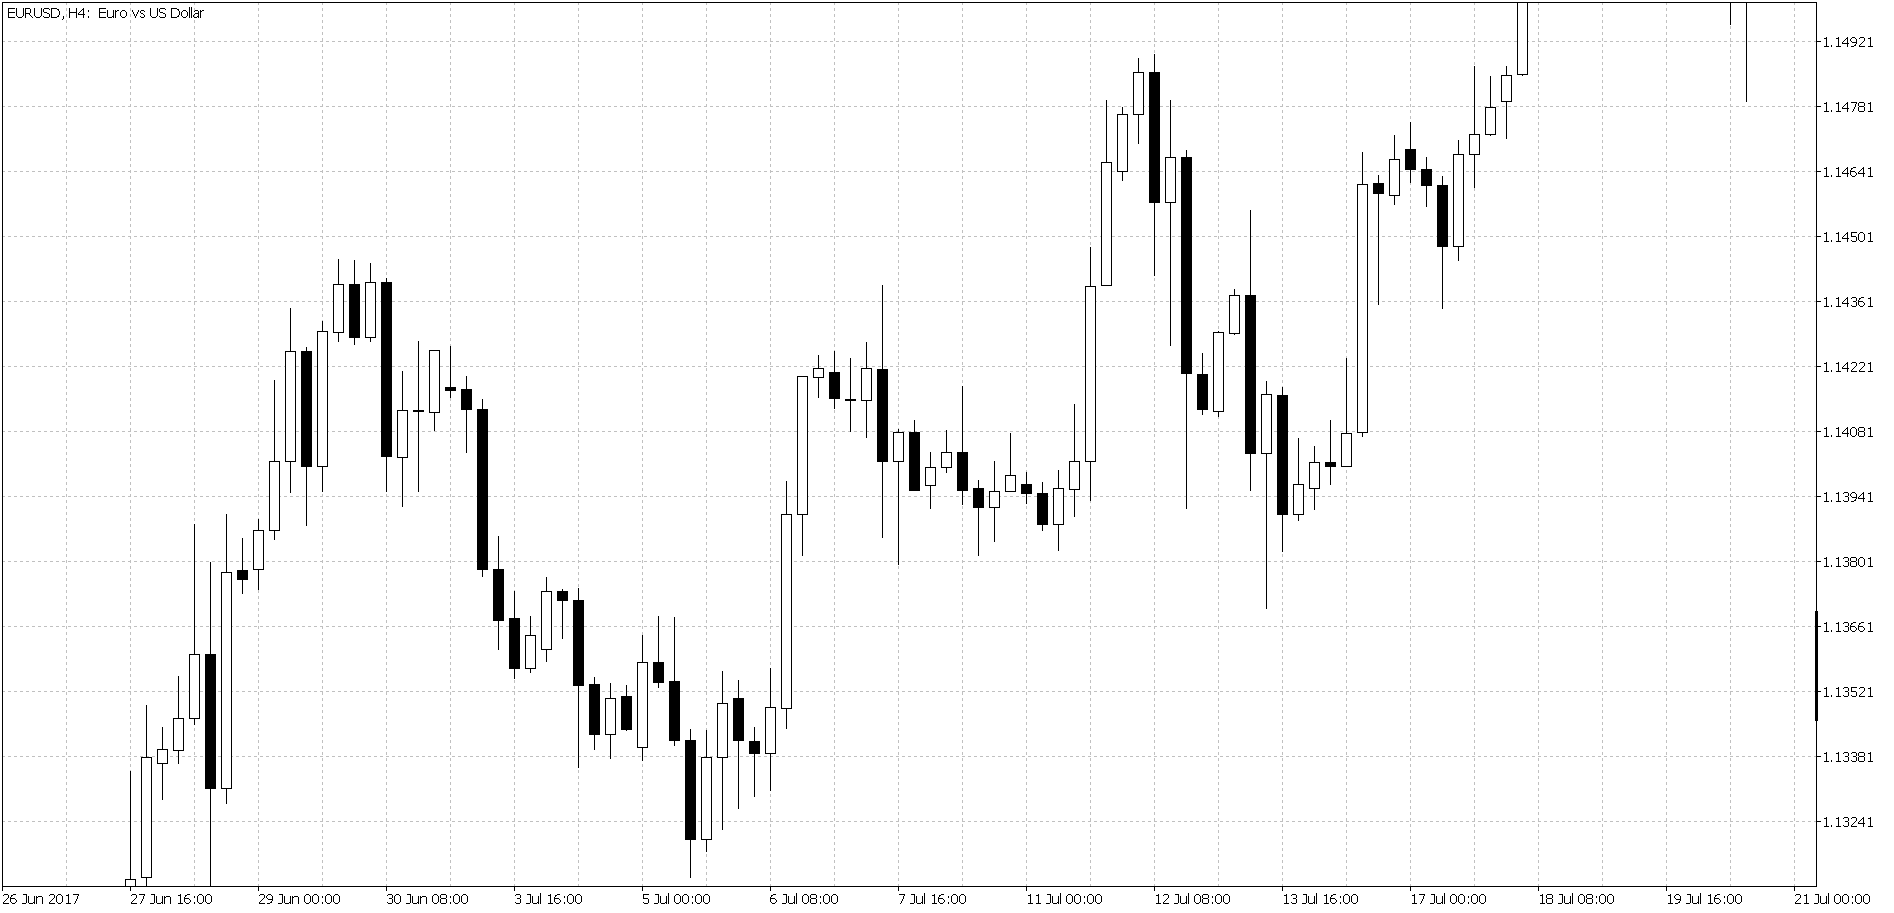bearishEngulfing: (1228, 205, 1257, 498)
bullishEngulfing: (618, 630, 651, 767), (1195, 322, 1227, 442)
hammer: (891, 423, 907, 571)
morningDojiStar: (827, 344, 873, 438)
morningStar: (731, 664, 778, 812)
